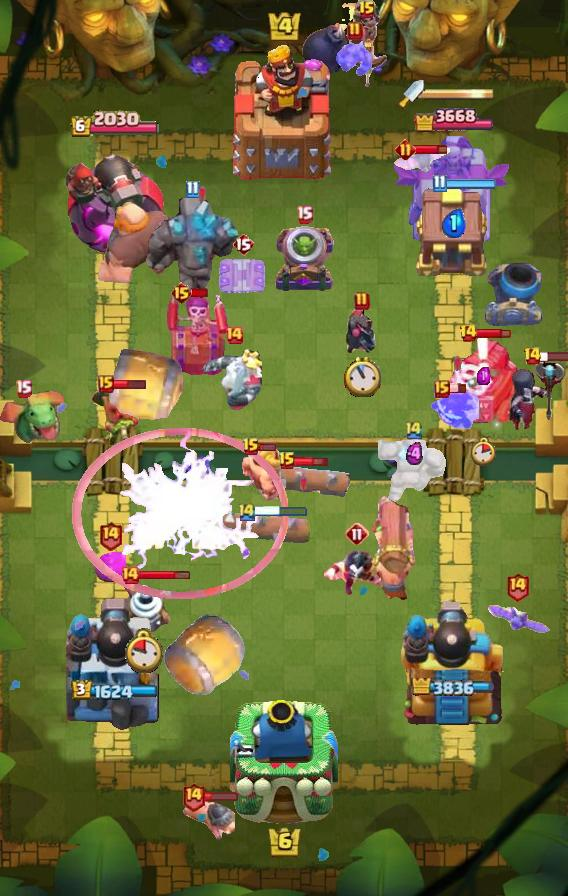bar: (255, 505, 308, 518), (138, 570, 191, 581), (445, 179, 496, 189), (294, 455, 329, 468), (413, 143, 448, 156), (112, 378, 147, 390), (476, 327, 511, 339), (203, 791, 239, 802), (539, 350, 568, 362), (191, 287, 210, 299), (448, 383, 467, 394), (258, 442, 277, 452)
bar-level: (181, 781, 206, 812), (505, 571, 530, 602), (98, 520, 123, 551), (345, 522, 369, 546), (170, 281, 193, 305), (232, 232, 254, 256), (395, 139, 416, 160), (237, 501, 257, 522), (404, 419, 424, 440), (120, 565, 140, 585), (224, 325, 244, 345), (523, 346, 542, 366), (459, 323, 478, 343), (278, 451, 296, 471), (242, 437, 260, 457), (358, 0, 376, 20), (15, 379, 32, 398), (296, 205, 313, 224), (354, 291, 370, 311), (347, 21, 363, 41), (434, 380, 450, 398), (98, 375, 114, 393), (185, 180, 200, 199), (432, 174, 447, 193)
bat-evolution: (484, 605, 550, 639), (392, 145, 452, 175)
bomb: (301, 3, 361, 75)
cannoneer-tower: (397, 595, 509, 731), (66, 595, 162, 731), (64, 138, 164, 256)
clock: (125, 628, 164, 673), (344, 356, 381, 397), (470, 436, 496, 466)
dagger-duchess-tower: (391, 132, 515, 256)
dagger-duchess-tower-bar: (424, 87, 496, 101)
dart-goblin: (90, 384, 148, 450)
electro-spirit: (429, 389, 479, 431)
electro-wizard: (319, 546, 395, 600)
elite-barbarian: (240, 448, 286, 502)
elixir: (441, 208, 466, 238), (406, 442, 423, 466), (477, 367, 490, 385)
elixir-golem-small: (94, 552, 126, 582)
golemite: (378, 438, 450, 508)
king-tower: (230, 43, 338, 181), (230, 698, 338, 826)
little-prince: (343, 0, 391, 92)
mini-pekka: (343, 304, 381, 358)
minion: (334, 39, 376, 79)
mortar: (483, 262, 543, 326)
mortar-evolution: (272, 224, 336, 294)
night-witch: (508, 358, 568, 434)
royal-ghost: (202, 344, 266, 416)
royal-hog: (183, 793, 235, 843)
tesla: (218, 256, 268, 296)
the-log: (211, 509, 313, 547), (252, 462, 350, 498)
tower-bar: (69, 110, 160, 139), (414, 105, 493, 136), (71, 679, 158, 701), (411, 678, 495, 696)
zappy: (117, 572, 171, 632)
